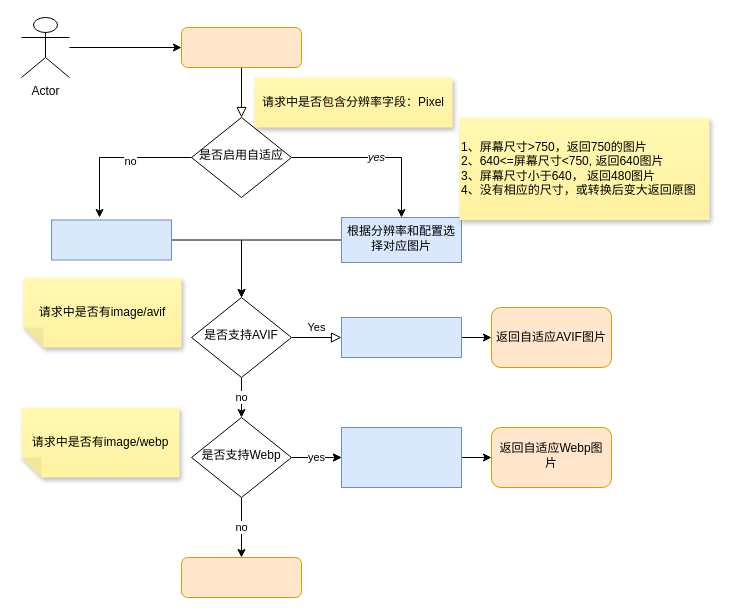
Some shapes in this 732 by 615 pixel diagram are drawn without their labels. Each missing label, with the centre of its shape:
"请求原图" belongs at point 111,239.
"请求图片" belongs at point 241,47.
"转换AVIF" belongs at point 401,337.
"转换Webp" belongs at point 401,457.
"返回自适应图片" belongs at point 241,577.
